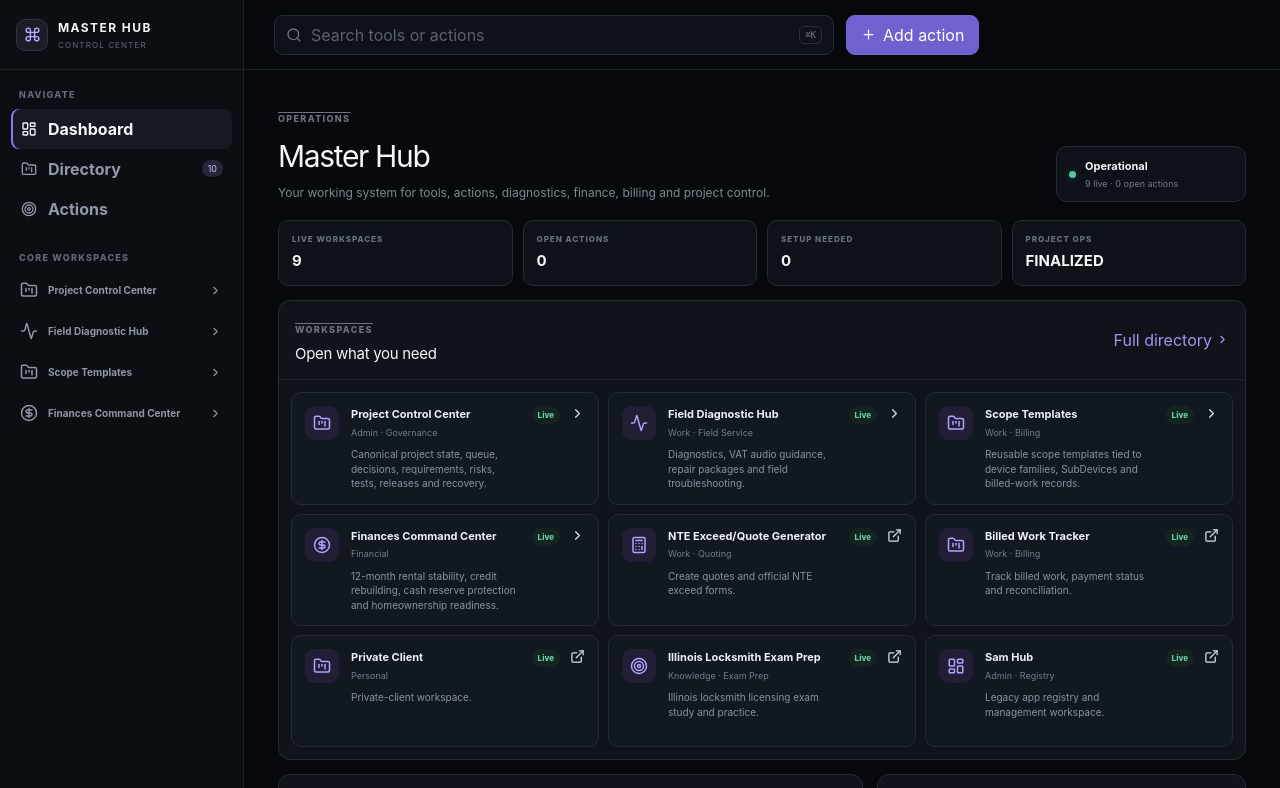
Test: Master Hub › searches the current hub directory and shows an empty state
The width and height of the screenshot is (1280, 788).
Click the button "Directory 10".
click(122, 168)  # box [11,148,232,188]
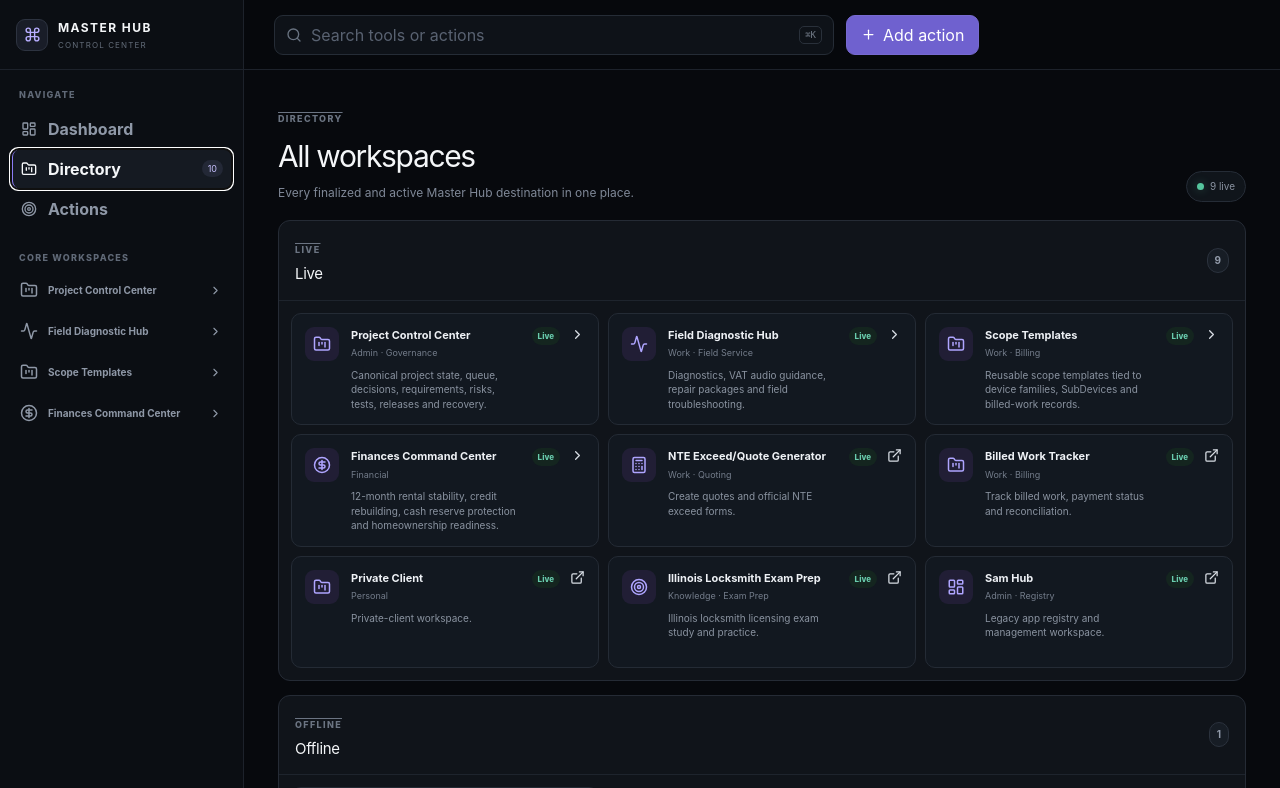
Type "zzzz" into the field with placeholder "Search tools or actions".
click(551, 34); type("zzzz")  # box [311,22,790,46]
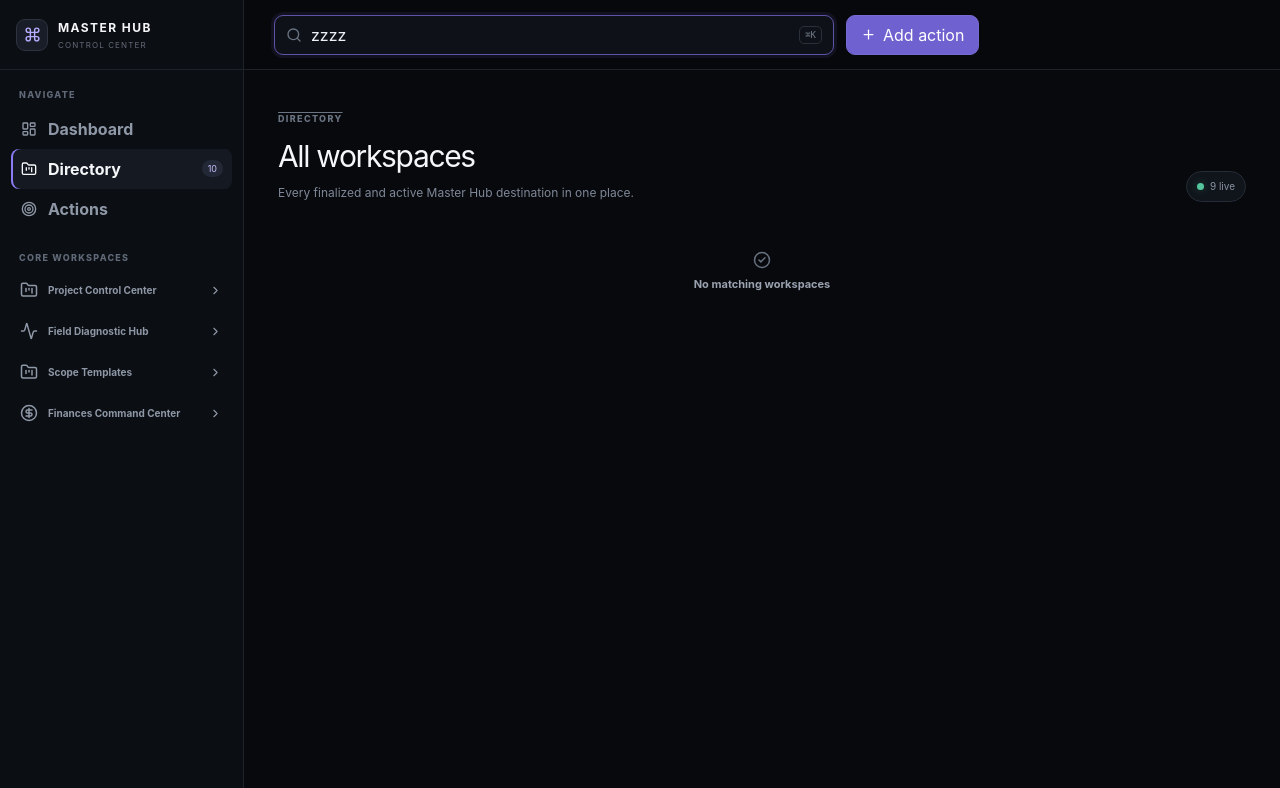
Now the text "No matching workspaces" is shown, box [694,276,830,293]
